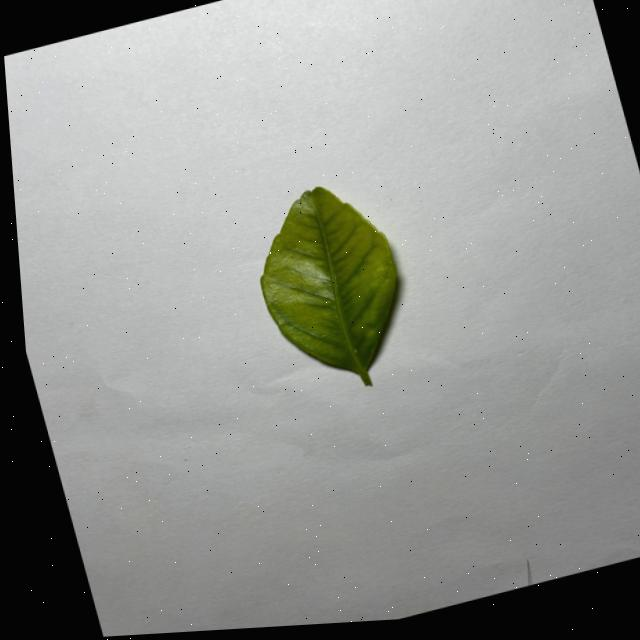greening: (261, 187, 396, 385)
